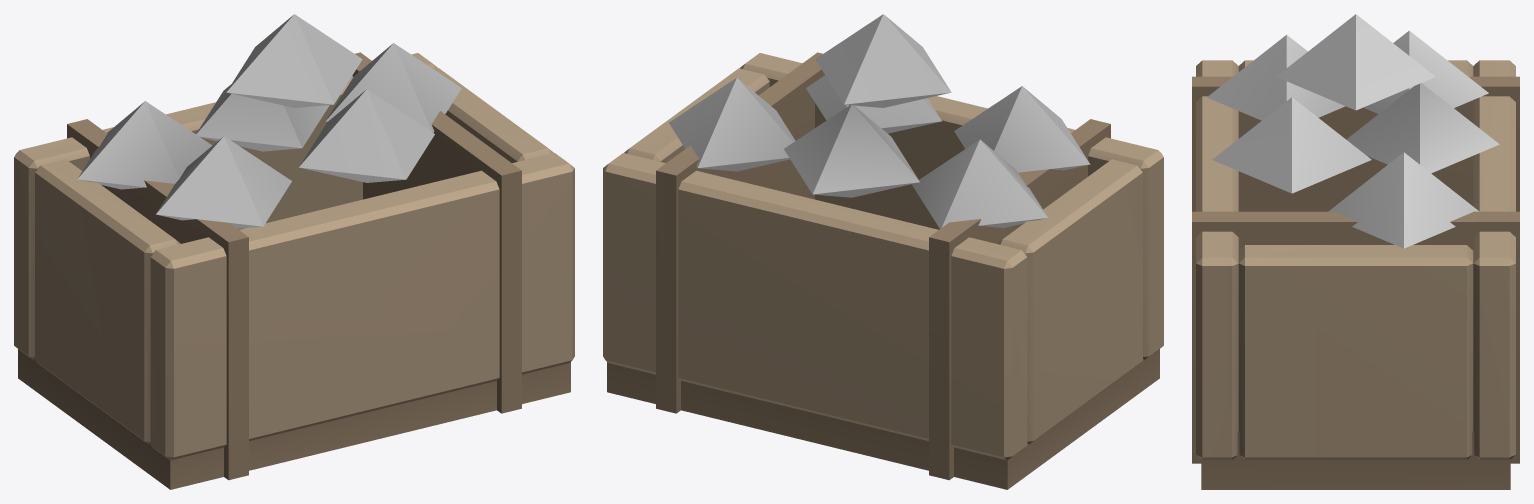
File: ore_crate.glb
The picture shows the model from 3 angles, left to right: view 1: azimuth 30°, elevation 25°; view 2: azimuth 150°, elevation 25°; view 3: azimuth 270°, elevation 25°; orthographic projection.
Visible parts, largest first — view 1: geometry_ore_crate; view 2: geometry_ore_crate; view 3: geometry_ore_crate.
Part boxes in pixels (x1=…): geometry_ore_crate: x1=14, y1=14, x2=574, y2=489; geometry_ore_crate: x1=603, y1=14, x2=1163, y2=489; geometry_ore_crate: x1=1192, y1=14, x2=1519, y2=489.
Bounding box in the file's own units: 0.9 × 0.78 × 0.615.
